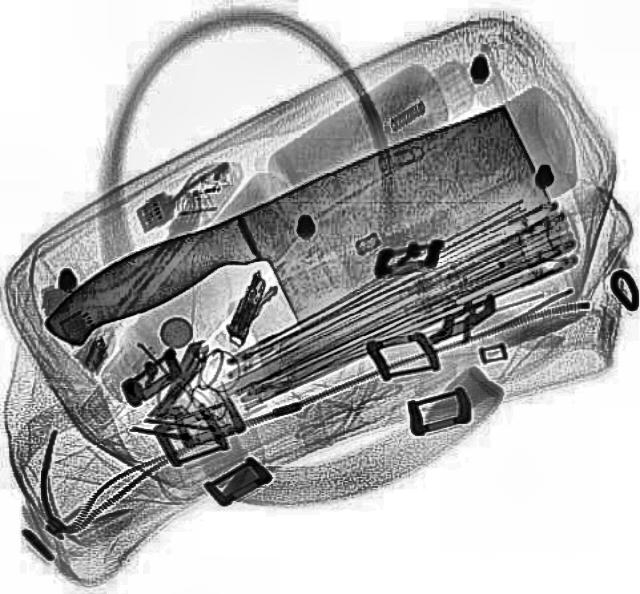Knife: (28, 98, 570, 418)
